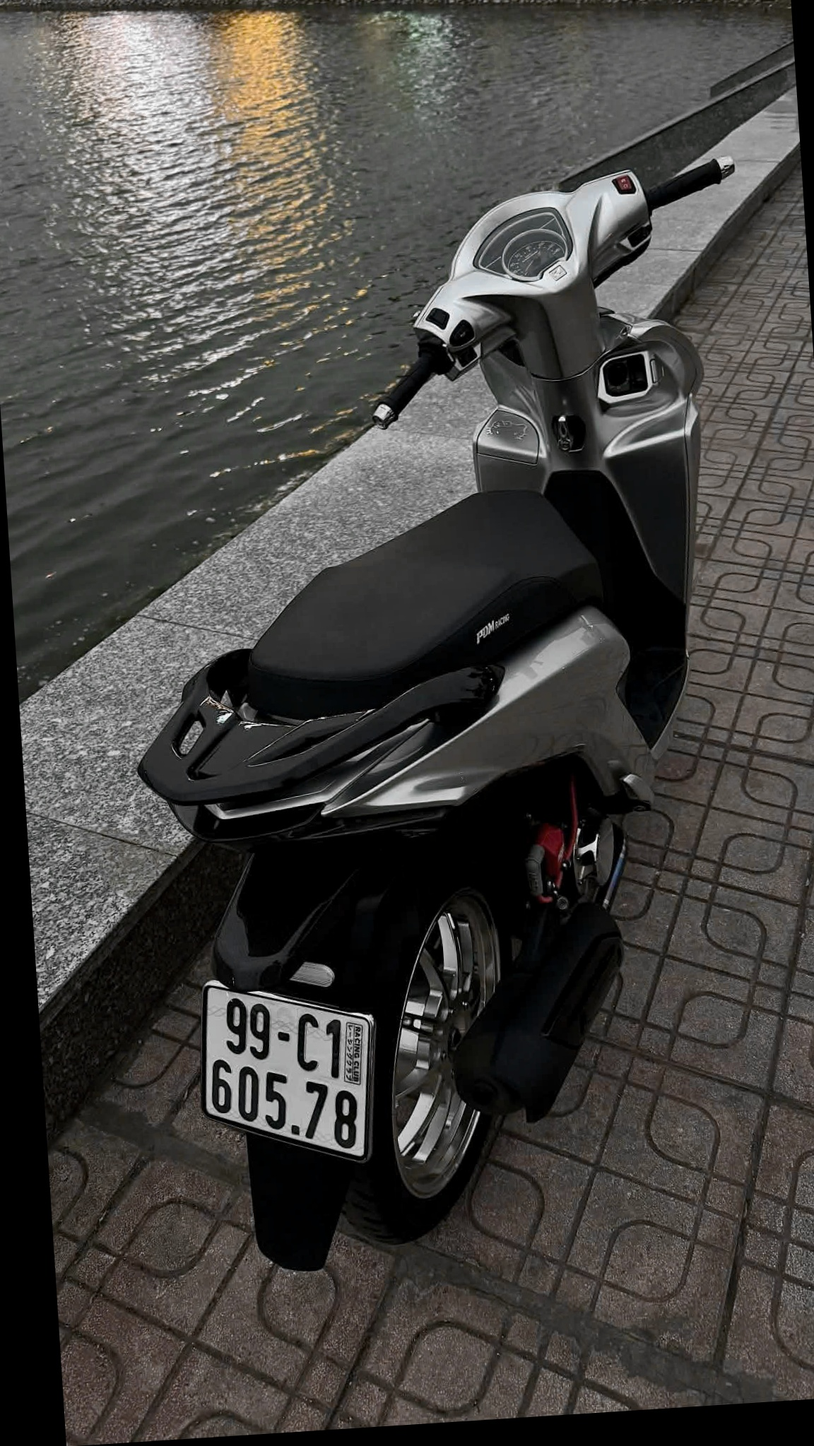Bien-so: (158, 983, 357, 1182)
